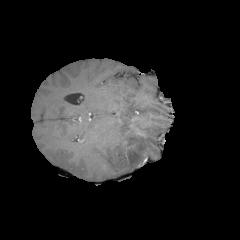glioma: (118, 111, 164, 165)
